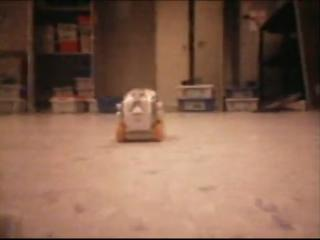cozmo: (114, 87, 165, 143)
